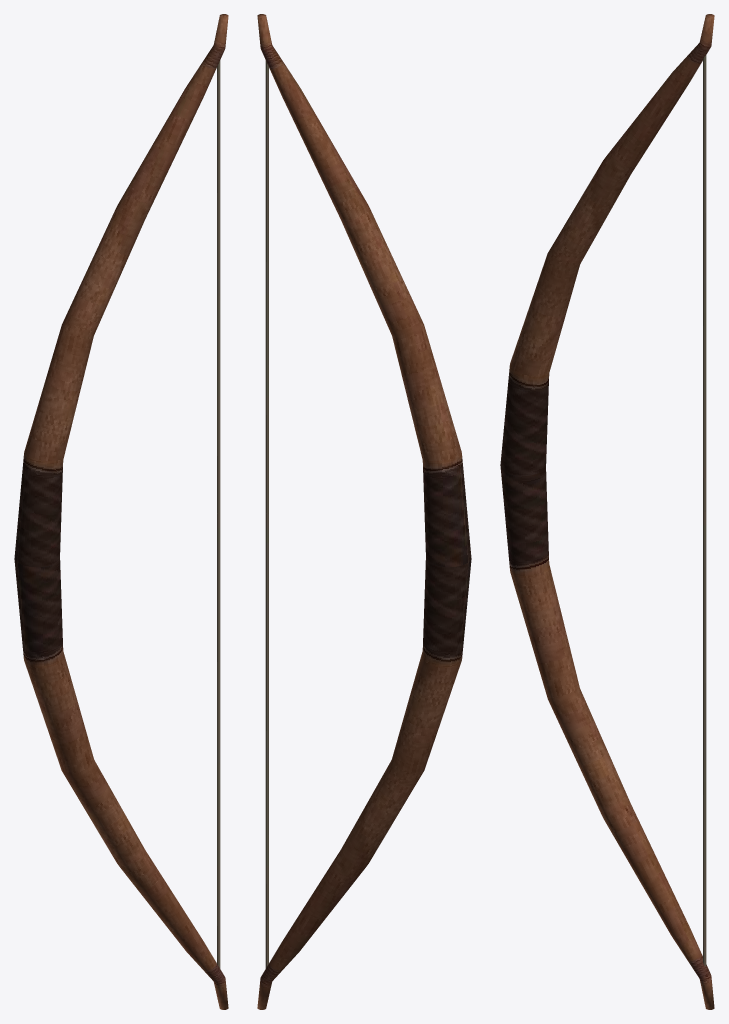
File: natural-bow-clear.glb
The picture shows the model from 3 angles, left to right: view 1: azimuth 30°, elevation 25°; view 2: azimuth 150°, elevation 25°; view 3: azimuth 330°, elevation 25°; orthographic projection.
Parts seen in each view (by area): view 1: natural-bow-clear runtime mesh; view 2: natural-bow-clear runtime mesh; view 3: natural-bow-clear runtime mesh.
Boxes of the visible parts, bbox=[...] form: natural-bow-clear runtime mesh: bbox=[14, 14, 228, 1009]; natural-bow-clear runtime mesh: bbox=[257, 14, 471, 1009]; natural-bow-clear runtime mesh: bbox=[500, 14, 714, 1009].
Bounding box in the file's own units: 0.2778 × 1.25 × 0.0525.
Materials: 1 (1 with a texture image).
